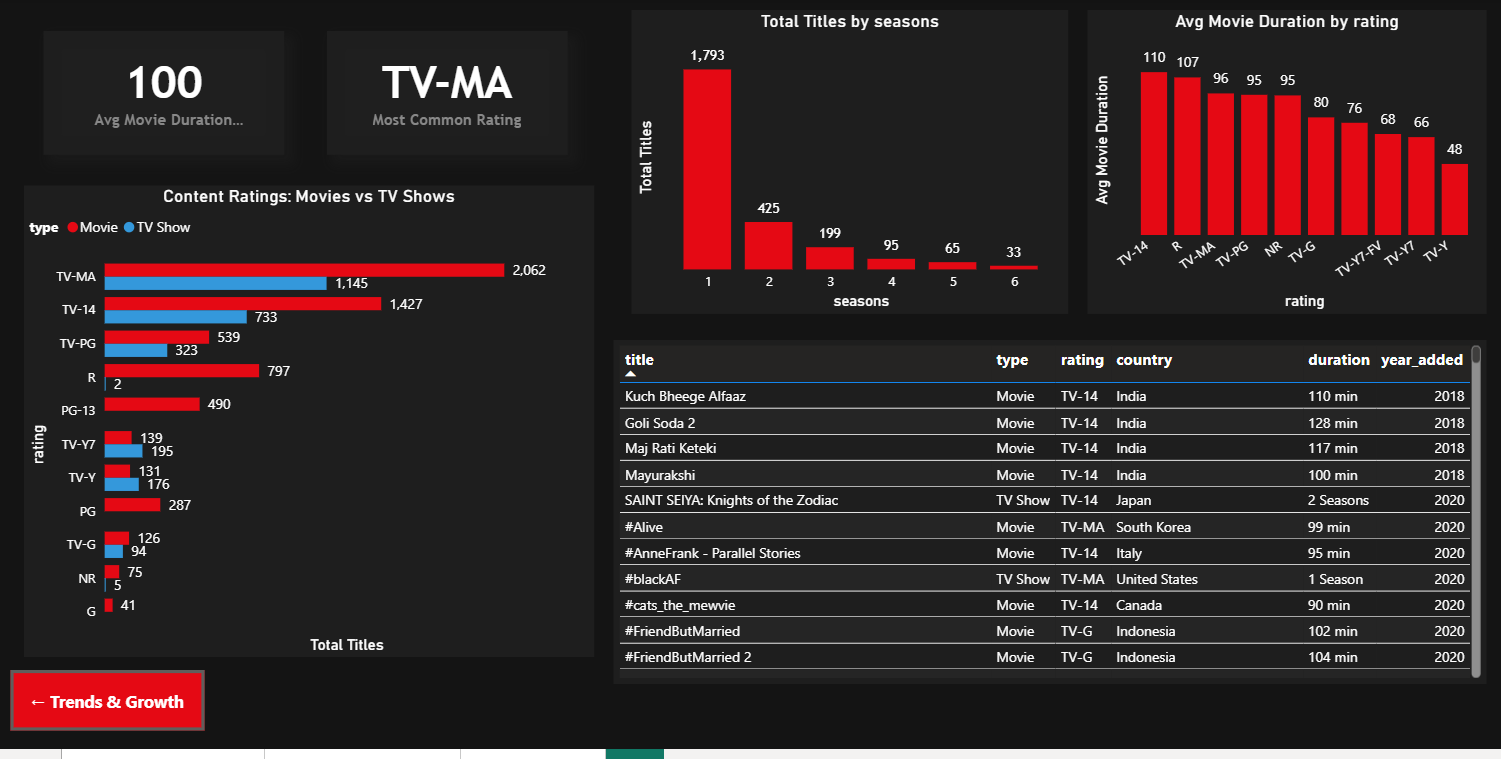

This screenshot's page, from the dashboard's own definition file:
{"tool":"powerbi","page":{"name":"Deep Dive","canvas":[1440,720],"ordinal":2},"visuals":[{"type":"clusteredBarChart","title":"Content Ratings: Movies vs TV Shows","fields":{"Category":["netflix_titles.rating"],"Series":["netflix_titles.type"],"Y":["Measures (2).Total Titles"]},"box":[23.2,179.8,546.5,452.3],"z":0},{"type":"clusteredColumnChart","fields":{"Category":["netflix_titles.rating"],"Y":["Measures (2).Avg Movie Duration"]},"box":[1042.3,11.6,382.7,291.4],"z":1000},{"type":"clusteredColumnChart","fields":{"Category":["netflix_titles.seasons"],"Y":["Measures (2).Total Titles"]},"box":[606,11.6,419,291.4],"z":2000},{"type":"tableEx","fields":{"Values":["netflix_titles.title","netflix_titles.type","netflix_titles.rating","netflix_titles.country","netflix_titles.duration","netflix_titles.year_added"]},"box":[588.6,327.6,836.5,329.1],"z":3000},{"type":"cardVisual","fields":{"Data":["Measures (2).Avg Movie Duration"]},"box":[42,31.9,230.5,118.9],"z":4000},{"type":"cardVisual","fields":{"Data":["Measures (2).Top Rating"]},"box":[313.1,31.9,230.5,118.9],"z":5000},{"type":"actionButton","box":[10.1,643.7,186,58],"z":6000}]}

Visuals, with their boxes in screenshot pixels (x1, y1, x2, y2), scaled from the page's 1440x720 canvas onto the 1501x759 screenshot:
"Content Ratings: Movies vs TV Shows" clusteredBarChart: x1=24 y1=190 x2=594 y2=666
clusteredColumnChart - netflix_titles.rating x Measures (2).Avg Movie Duration: x1=1086 y1=12 x2=1485 y2=319
clusteredColumnChart - netflix_titles.seasons x Measures (2).Total Titles: x1=632 y1=12 x2=1068 y2=319
tableEx - netflix_titles.title x netflix_titles.type: x1=614 y1=345 x2=1485 y2=692
cardVisual - Measures (2).Avg Movie Duration: x1=44 y1=34 x2=284 y2=159
cardVisual - Measures (2).Top Rating: x1=326 y1=34 x2=567 y2=159
actionButton: x1=11 y1=679 x2=204 y2=740
